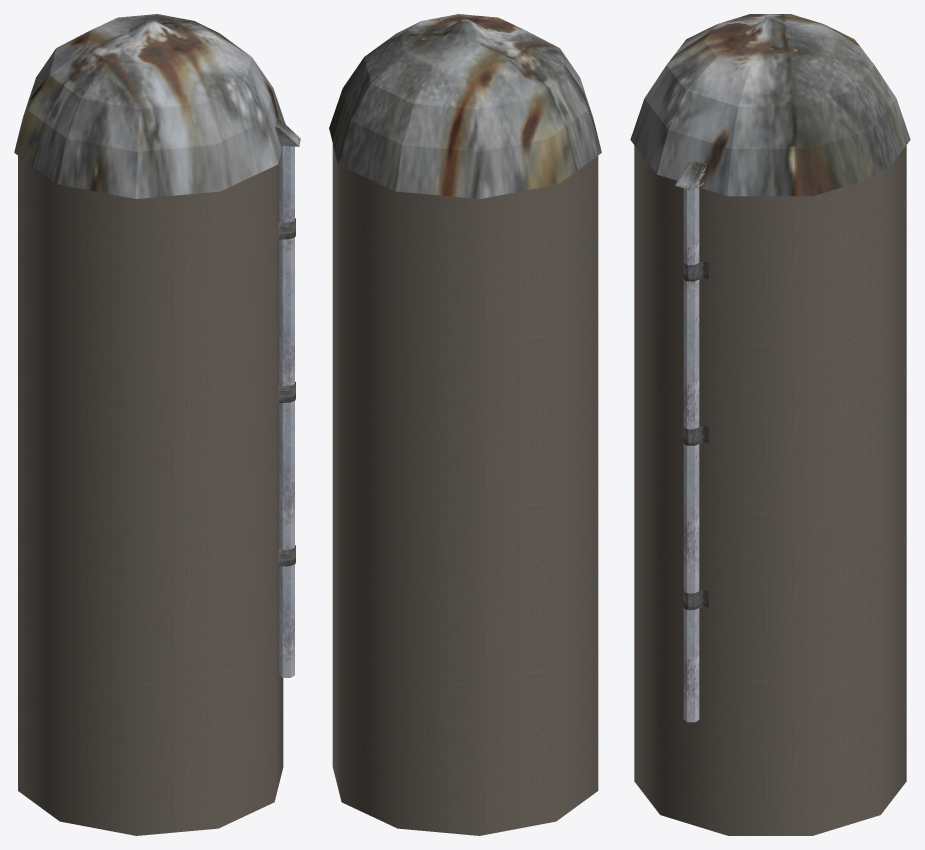
The model's file is Silo.fbx.
3 views of the same model, side by side, from view 1: azimuth 30°, elevation 25°; view 2: azimuth 150°, elevation 25°; view 3: azimuth 270°, elevation 25° (orthographic).
Parts seen in each view (by area): view 1: Silo; view 2: Silo; view 3: Silo.
Boxes of the visible parts, <box> form: Silo: <box>14,14,300,835</box>; Silo: <box>329,14,601,835</box>; Silo: <box>630,14,910,835</box>.
Size of the model in its own units: 121 by 383 by 128.
